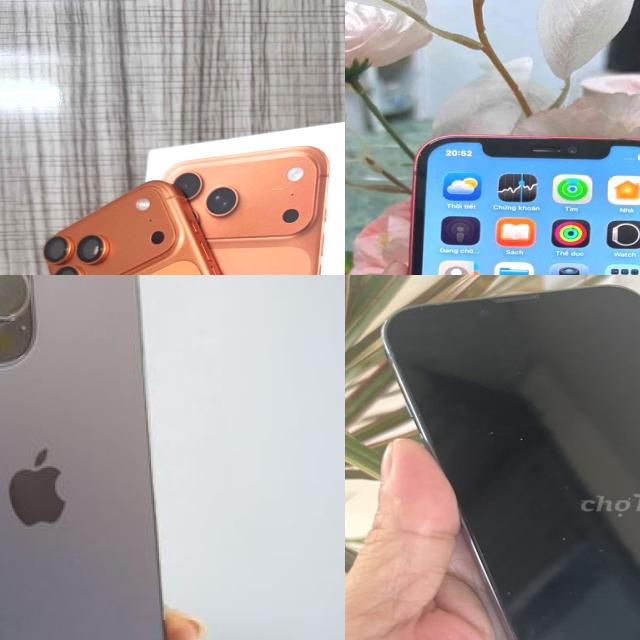gen_11: (386, 131, 640, 275)
gen_12_13: (382, 280, 640, 640)
gen_14: (0, 275, 174, 640)
gen_17: (21, 182, 313, 275)
